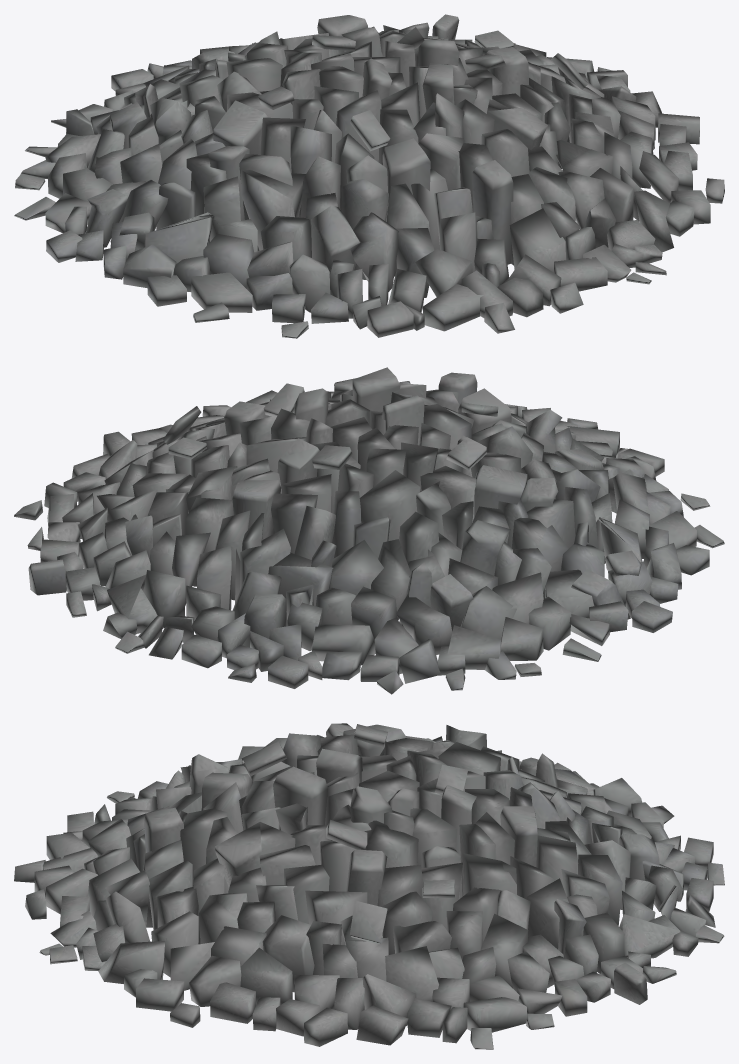
The model's file is zn-granules.glb.
3 views of the same model, one above another, from view 1: azimuth 30°, elevation 25°; view 2: azimuth 150°, elevation 25°; view 3: azimuth 270°, elevation 25° (orthographic). The views are drawn at different scales.
Bounding box in the file's own units: 0.9492 × 0.2085 × 0.9439.
1 material, 1 textured.
